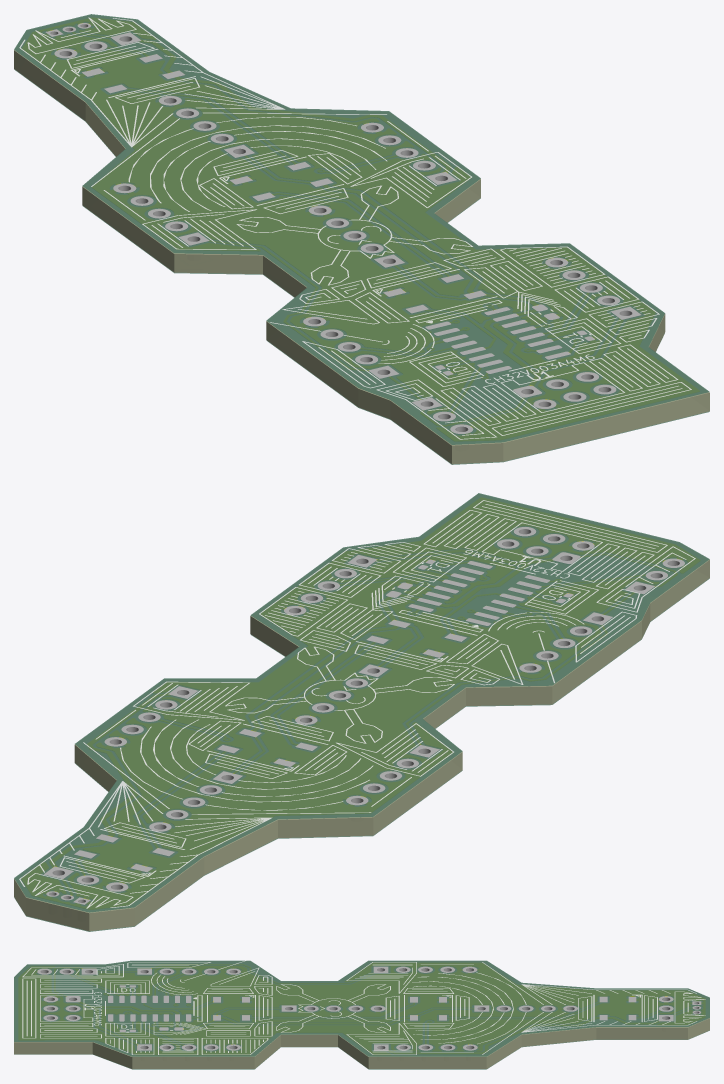
File: sensaor-sao-with-an-adapted-saoao-header.glb
The picture shows the model from 3 angles, top to bottom: view 1: azimuth 30°, elevation 25°; view 2: azimuth 150°, elevation 25°; view 3: azimuth 270°, elevation 25°; orthographic projection. The views are drawn at different scales.
Parts seen in each view (by area): view 1: =>[0:1:1:7], =>[0:1:1:2], =>[0:1:1:9], =>[0:1:1:5]; view 2: =>[0:1:1:7], =>[0:1:1:2], =>[0:1:1:9], =>[0:1:1:5]; view 3: =>[0:1:1:7], =>[0:1:1:2], =>[0:1:1:9], =>[0:1:1:5].
Part boxes in pixels (<box>): =>[0:1:1:7]: <box>14,14,709,464</box>; =>[0:1:1:2]: <box>22,18,699,440</box>; =>[0:1:1:9]: <box>14,15,709,464</box>; =>[0:1:1:5]: <box>19,17,691,439</box>; =>[0:1:1:7]: <box>14,493,709,931</box>; =>[0:1:1:2]: <box>22,498,699,909</box>; =>[0:1:1:9]: <box>14,494,709,931</box>; =>[0:1:1:5]: <box>19,500,695,908</box>; =>[0:1:1:7]: <box>14,960,709,1069</box>; =>[0:1:1:2]: <box>19,963,704,1054</box>; =>[0:1:1:9]: <box>14,961,709,1068</box>; =>[0:1:1:5]: <box>22,960,705,1054</box>.
Size of the model in its own units: 0.026 by 0.00166 by 0.0795.
4 materials, 4 textured.
